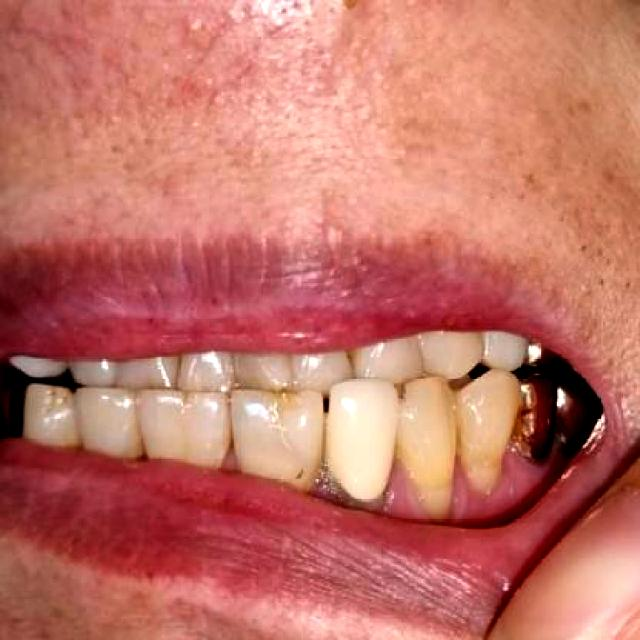Plaque: (392, 385, 412, 408), (285, 463, 308, 483)
